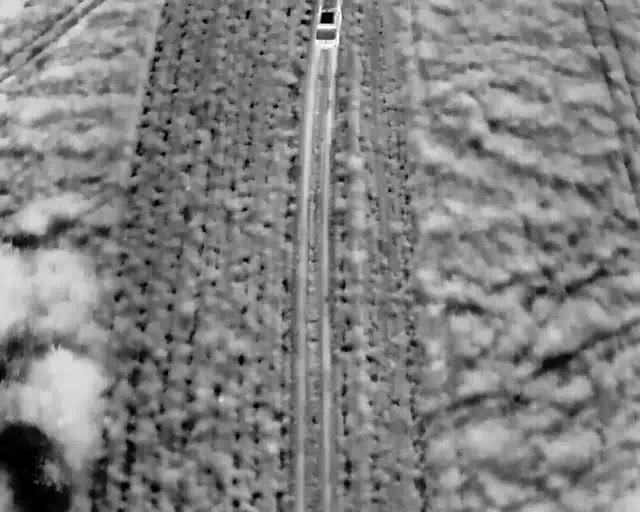car: (315, 4, 341, 48)
